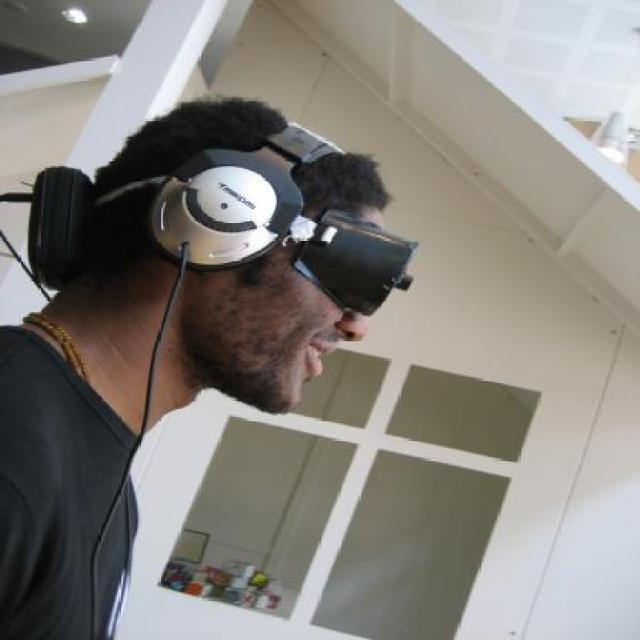earphone: (124, 91, 358, 271)
